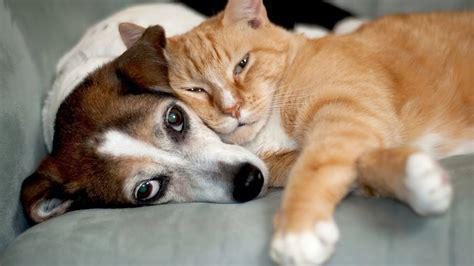cat: (119, 1, 474, 266)
dog: (19, 4, 268, 221)
